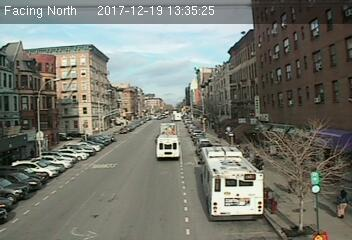bus: (198, 147, 263, 222)
truck: (155, 134, 180, 162)
